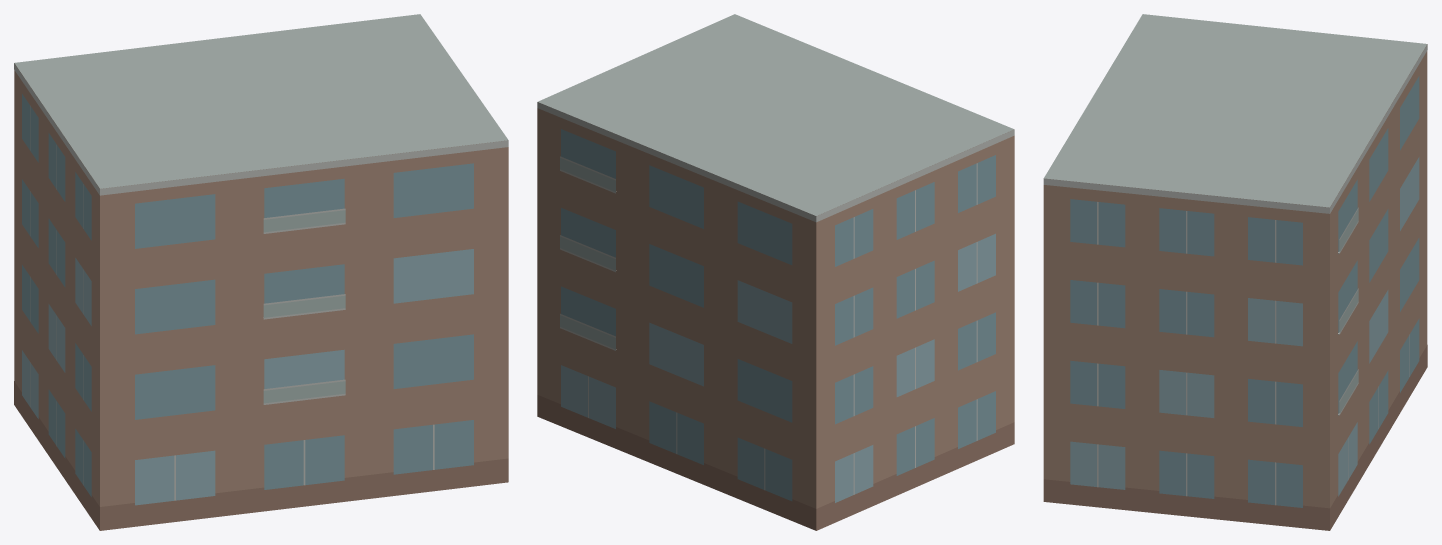
Rendered from survey-upis-32737168.glb.
3 views of the same model, side by side, from view 1: azimuth 30°, elevation 25°; view 2: azimuth 150°, elevation 25°; view 3: azimuth 270°, elevation 25° (orthographic). The views are drawn at different scales.
Visible parts, largest first — view 1: survey-upis-32737168.tmp; view 2: survey-upis-32737168.tmp; view 3: survey-upis-32737168.tmp.
Part boxes in pixels (x1,y1,x2,y2): survey-upis-32737168.tmp: (14, 14, 508, 530); survey-upis-32737168.tmp: (537, 14, 1014, 530); survey-upis-32737168.tmp: (1043, 14, 1427, 530).
Size of the model in its own units: 15.82 by 12.32 by 13.26.
